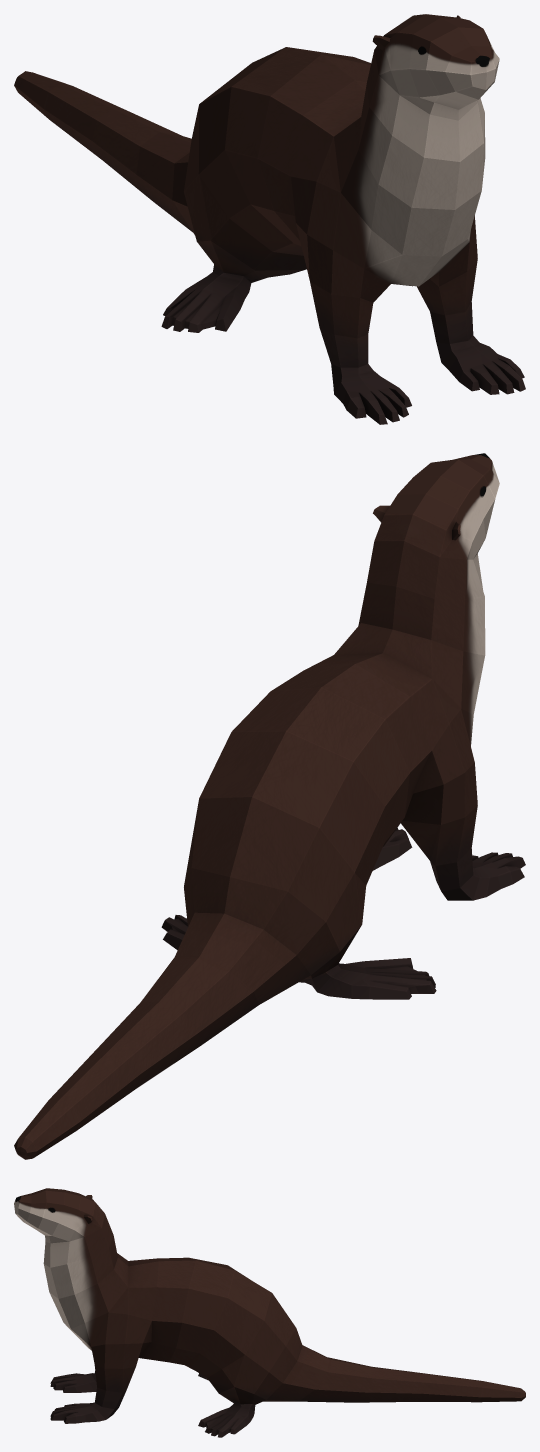
Rendered from 0e2b9d01-1c86-401c-9eb6-9a7907b0dfda.glb.
3 renders of one model, top to bottom at view 1: azimuth 30°, elevation 25°; view 2: azimuth 150°, elevation 25°; view 3: azimuth 270°, elevation 25°, orthographic. The views are drawn at different scales.
Visible parts, largest first — view 1: RiverOtter_Mesh; view 2: RiverOtter_Mesh; view 3: RiverOtter_Mesh.
Part boxes in pixels (x1,y1,x2,y2): RiverOtter_Mesh: (14,14,525,424); RiverOtter_Mesh: (14,453,525,1159); RiverOtter_Mesh: (14,1188,525,1437).
Size of the model in its own units: 3.24 by 4.36 by 9.59.
1 material, 1 textured.
